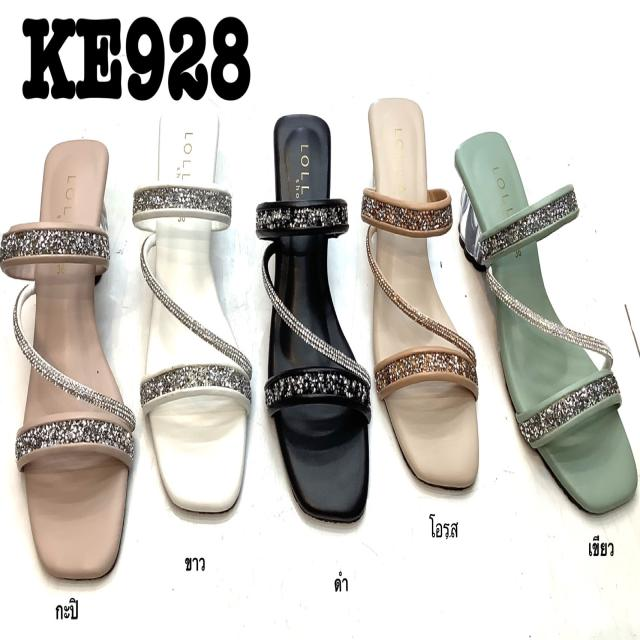black: (267, 111, 369, 526)
green: (460, 124, 637, 514)
kapi: (22, 140, 130, 586)
orot: (364, 96, 481, 490)
white: (145, 98, 245, 518)
